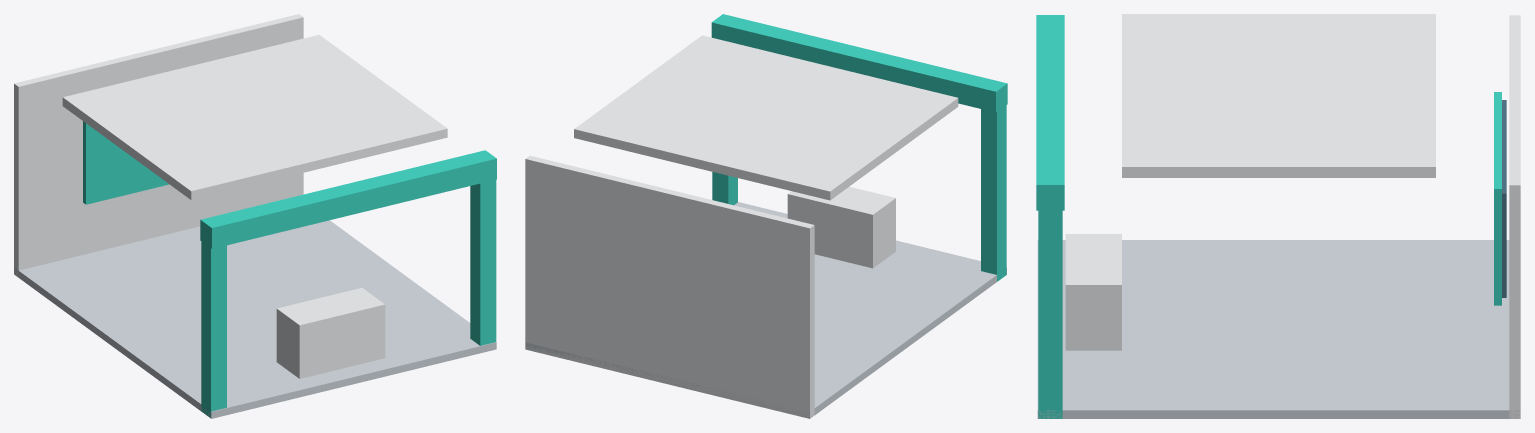
The picture shows the model from 3 angles, left to right: view 1: azimuth 30°, elevation 25°; view 2: azimuth 150°, elevation 25°; view 3: azimuth 270°, elevation 25°; orthographic projection. The views are drawn at different scales.
Parts seen in each view (by area): view 1: Exhibition Booth Concept; view 2: Exhibition Booth Concept; view 3: Exhibition Booth Concept.
Boxes of the visible parts, left/top/right/bottom form: Exhibition Booth Concept: left=14, top=14, right=496, bottom=418; Exhibition Booth Concept: left=525, top=14, right=1007, bottom=418; Exhibition Booth Concept: left=1036, top=14, right=1520, bottom=418.
Bounding box in the file's own units: 5 × 3.34 × 6.02.
